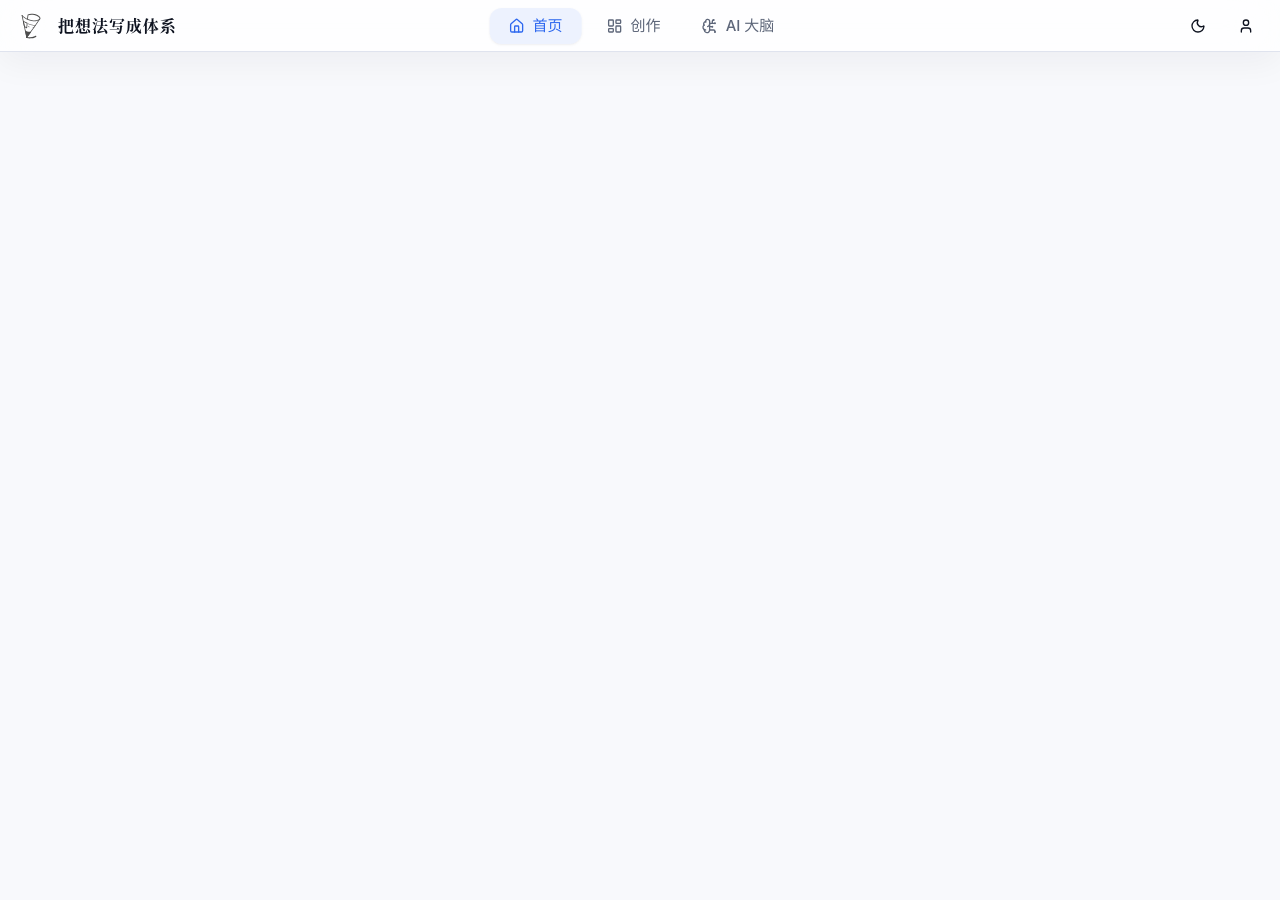
Test case: NavBar subscription entry › places subscription and usage in the avatar menu instead of the settings dialog
The image size is (1280, 900).
Click the button titled "alice" at (1246, 26), box [1228,8,1264,44]
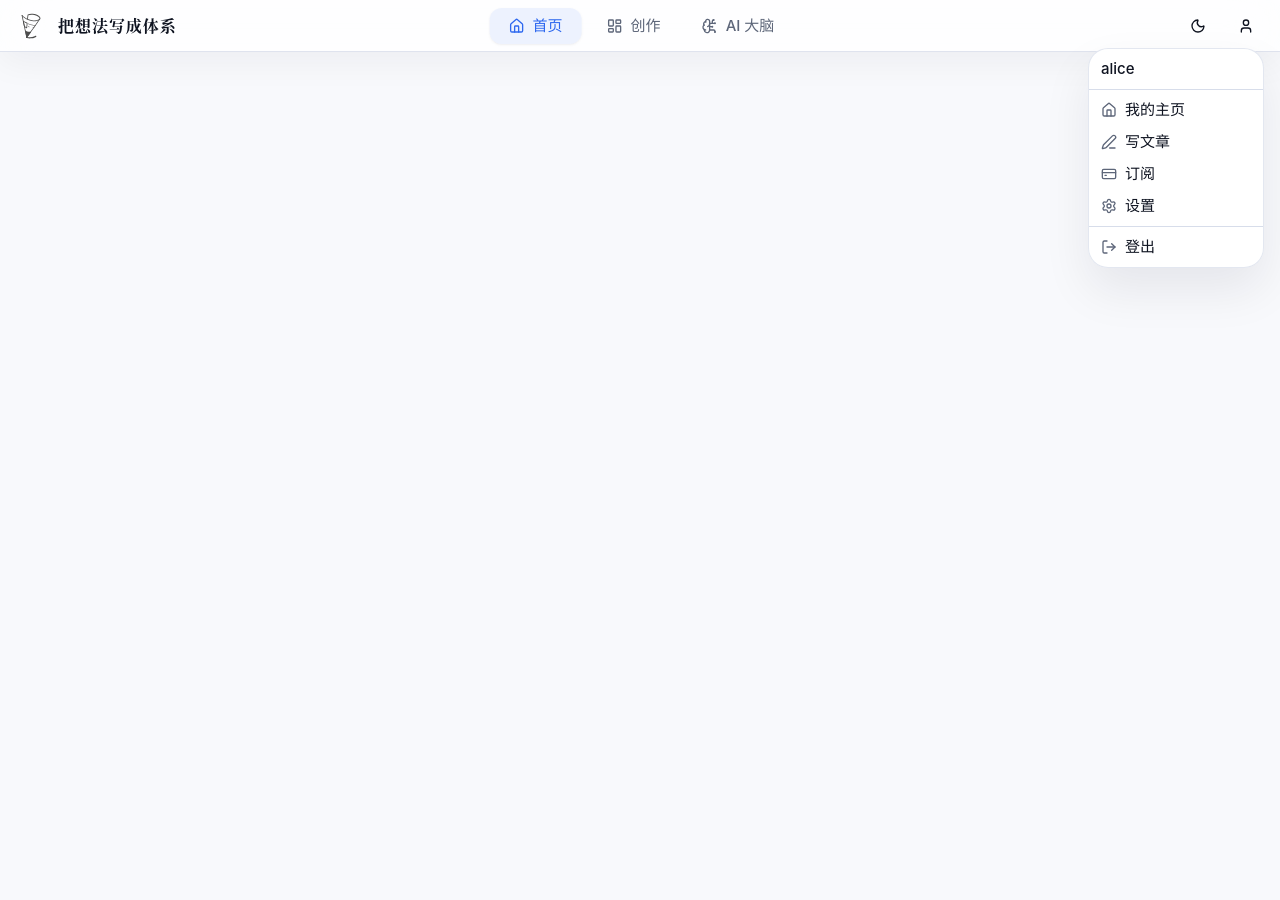
Click the menu item "订阅" at (1128, 174), box [1101,164,1155,183]
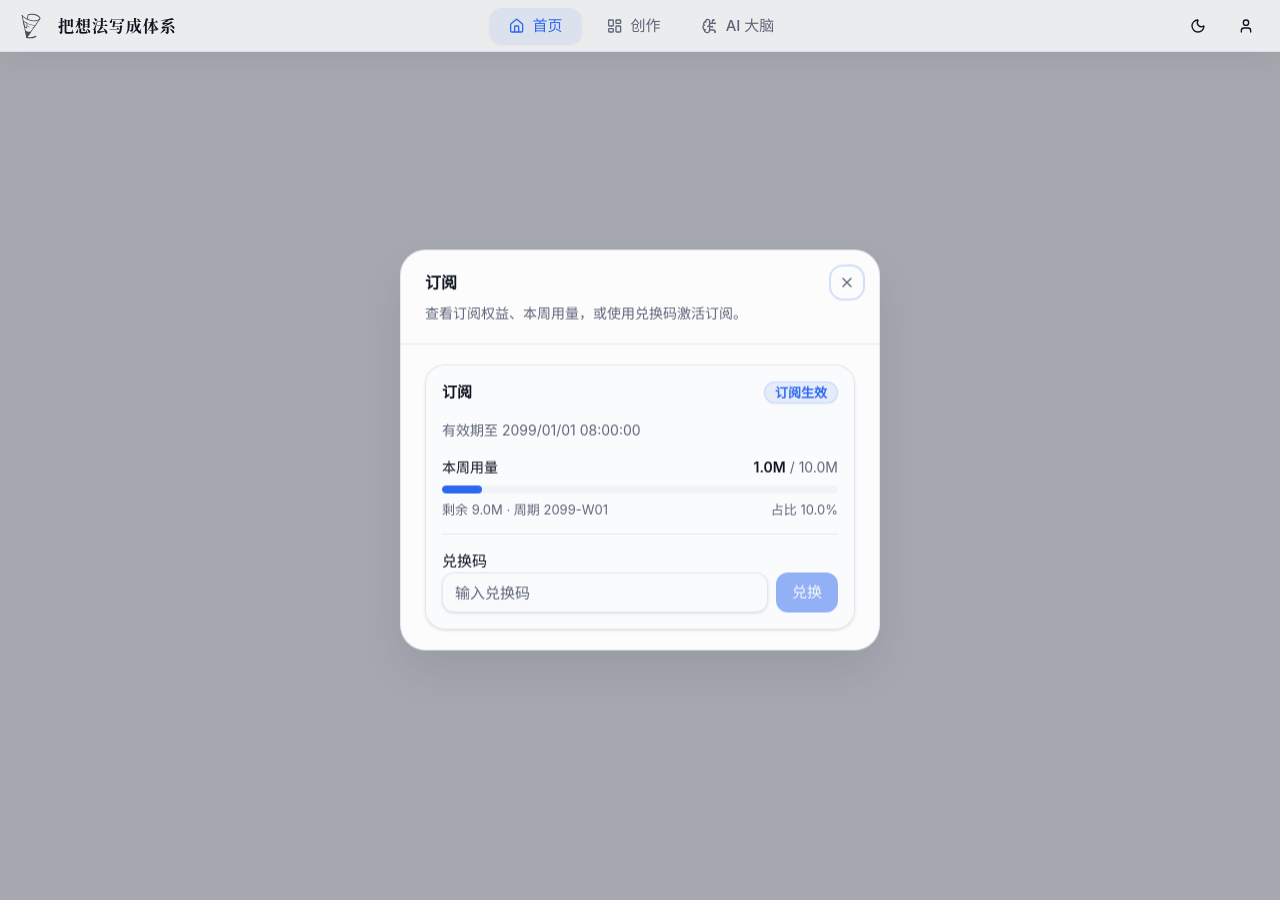
Expected: the heading "订阅" is shown, [425,272,457,292]
Expected: the text "本周用量" is shown, [442,456,498,478]
